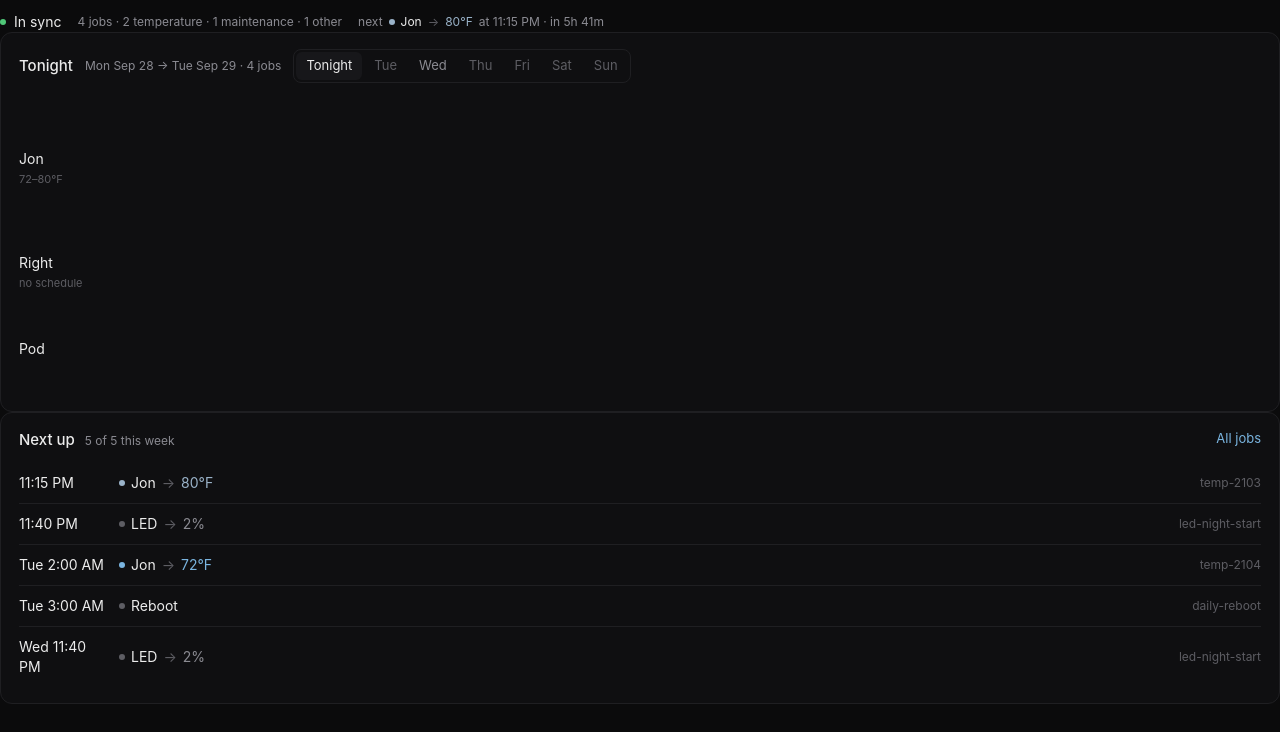
Test: SchedulerPanel › draws tonight and dims nights without jobs
expect the text "Tonight" is shown 2 times: met, box [19,54,73,77]; [296,52,362,80]
expect the element with test id "scheduler-timeline" shows "4 jobs": met, box [85,58,281,73]
Click the tab "Wed".
click(433, 66)  # box [409,52,457,80]
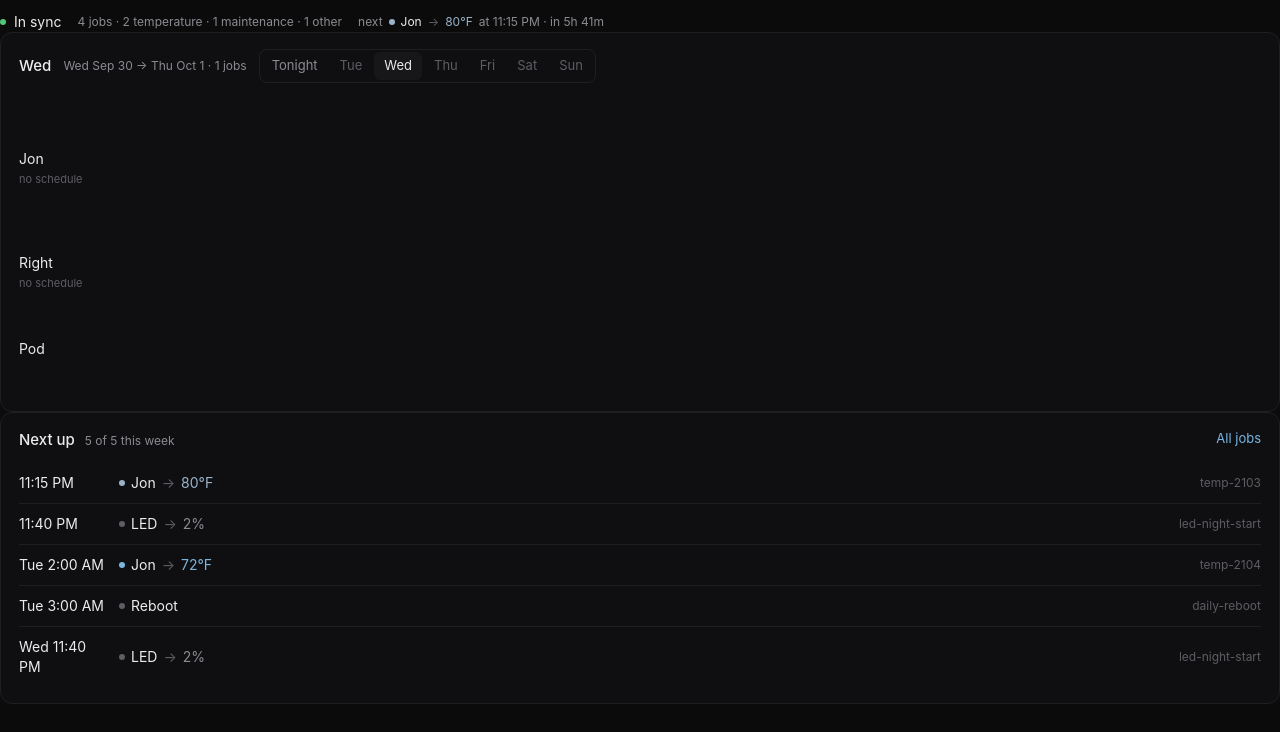
expect the element with test id "scheduler-timeline" shows "1 jobs": met, box [63,58,247,73]
